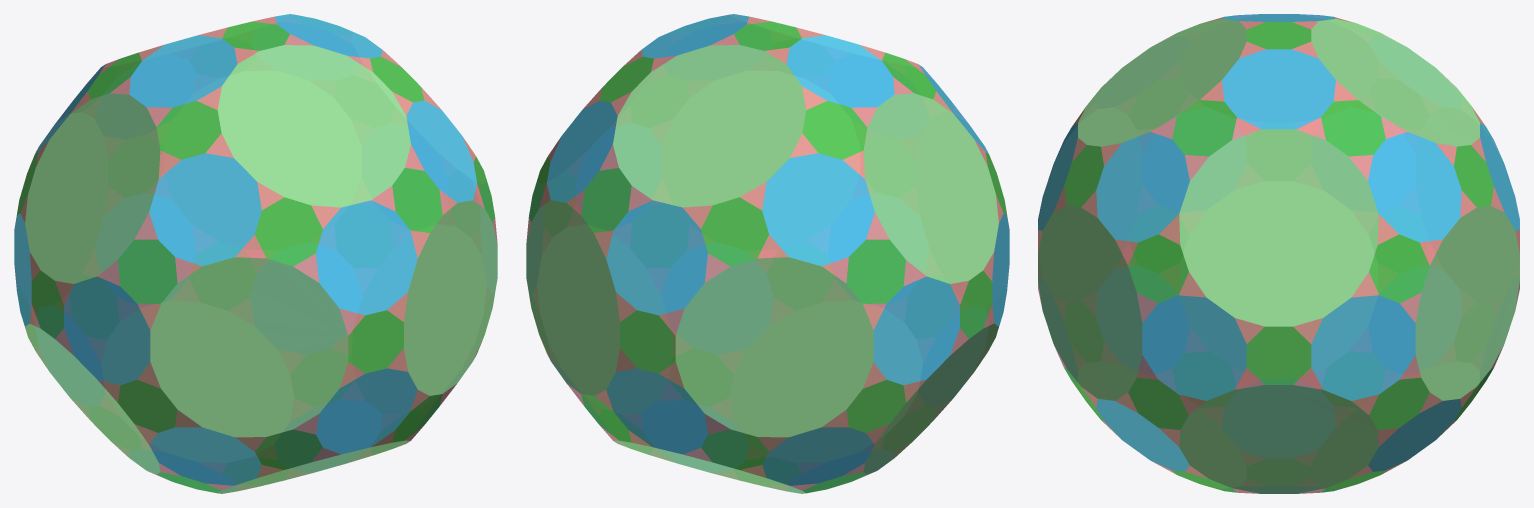
File: BiTruncatedIcosidodecahedron.obj
3 renders of one model, left to right at view 1: azimuth 30°, elevation 25°; view 2: azimuth 150°, elevation 25°; view 3: azimuth 270°, elevation 25°, orthographic.
Size of the model in its own units: 1.98 by 1.98 by 1.98.
